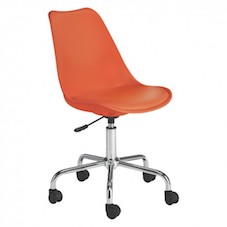chair: (28, 5, 203, 225)
